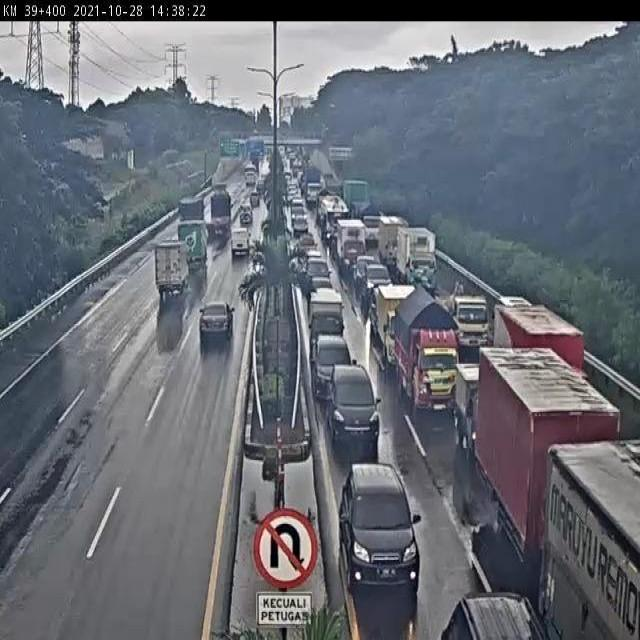big bus: (243, 165, 259, 187)
big truck: (474, 337, 619, 611), (544, 444, 640, 640), (500, 304, 586, 381), (435, 282, 491, 346), (399, 227, 440, 293), (346, 181, 384, 240), (382, 216, 414, 271), (318, 195, 352, 240), (335, 220, 366, 267), (176, 197, 207, 235), (209, 194, 232, 234)
car: (335, 459, 428, 580), (425, 568, 558, 640), (329, 365, 389, 448), (315, 332, 358, 389), (191, 299, 239, 349), (492, 288, 530, 321), (368, 263, 393, 296), (230, 229, 254, 260), (306, 254, 337, 278), (309, 273, 336, 296), (237, 205, 259, 228), (258, 176, 269, 193), (248, 192, 261, 205)
small truck: (395, 283, 460, 416), (454, 358, 513, 458), (377, 282, 425, 362), (311, 292, 350, 348), (150, 246, 187, 302), (178, 220, 213, 275)
